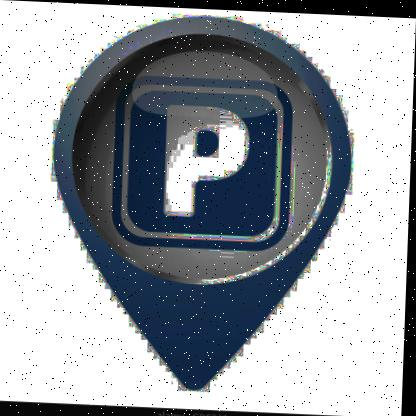Parking: (106, 75, 295, 246)
